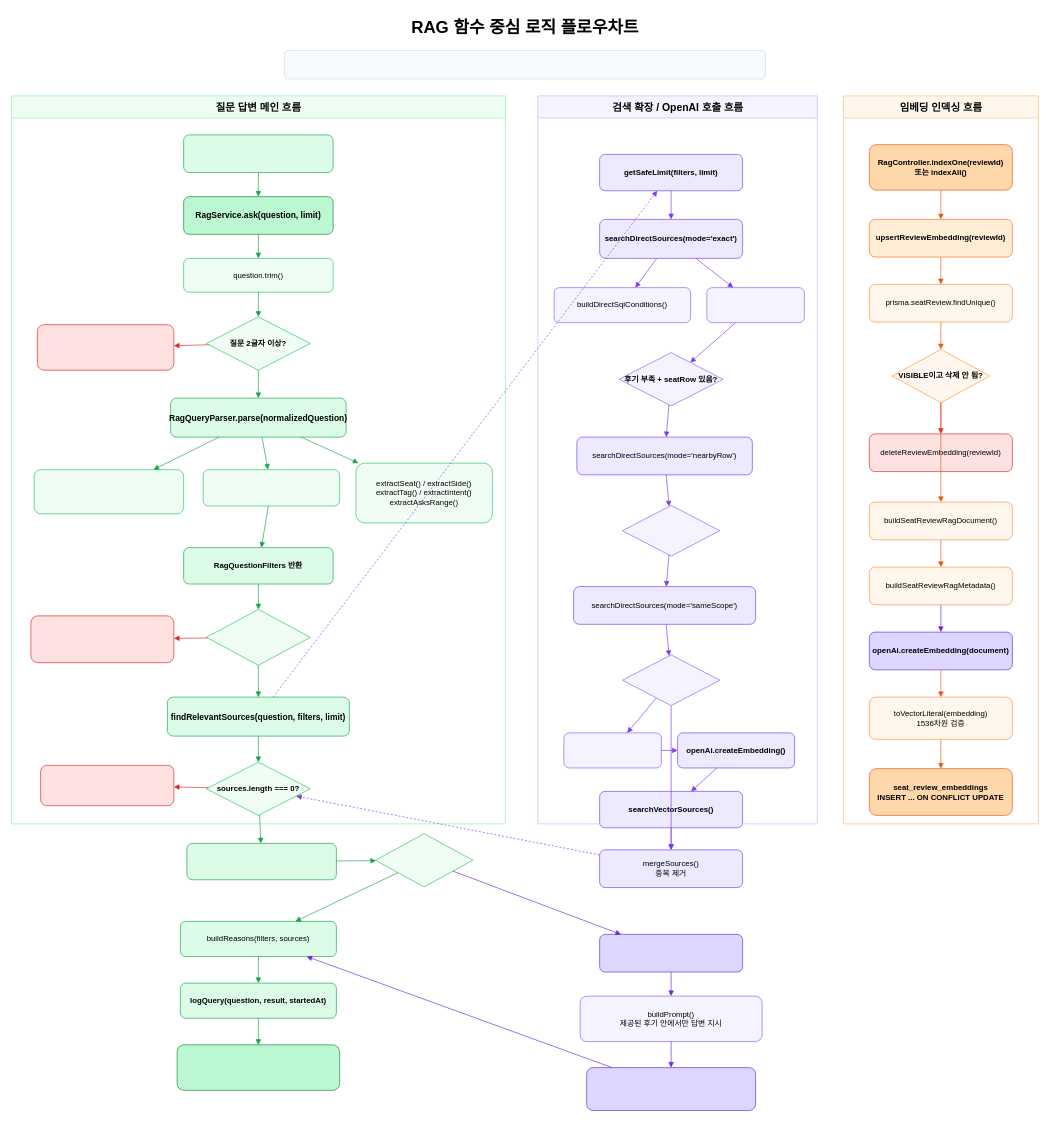
Some shapes in this 1050 by 1122 pixel diagram are drawn without their labels. The shapes that lost their labels are listed below. From the top down, each one's centre as x and y in pixels, then its label:
the point at 524,64: 아래 방향 = 실행 순서 / 옆 방향 = 조건 분기, 검색 확장, OpenAI 호출, 인덱싱 보조 흐름
the point at 258,153: RagController.ask(dto)
the point at 755,305: buildDirectOrderBy()
the point at 105,347: BadRequestException question must be at least 2 characters
the point at 108,491: prisma.theater.findMany() prisma.musical.findMany()
the point at 271,487: findBestNameMatch()
the point at 671,530: 그래도 부족?
the point at 102,639: 좌석 질문 아님 일반 작품 설명 거절 답변
the point at 258,637: isSeatReviewQuestion()
the point at 671,680: hasEmbeddings()
the point at 612,750: buildQueryText()
the point at 107,785: 맞는 후기 없음 안전 답변
the point at 261,861: buildTagRangeAnswer(filters)
the point at 424,860: rangeAnswer 있음?
the point at 671,953: openAi.createAnswer()
the point at 258,1067: RagAnswer 반환 answer / reasons / filters / sources
the point at 671,1089: OpenAI Responses API output_text 추출
